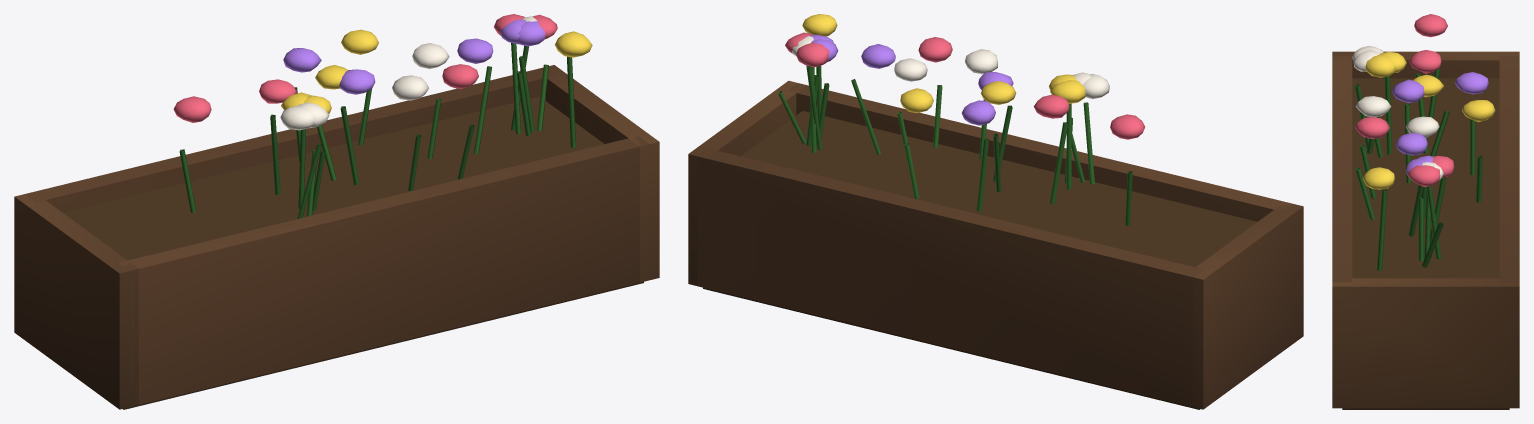
Rendered from flower_trough.glb.
3 views of the same model, side by side, from view 1: azimuth 30°, elevation 25°; view 2: azimuth 150°, elevation 25°; view 3: azimuth 270°, elevation 25° (orthographic). The views are drawn at different scales.
Parts seen in each view (by area): view 1: flower_trough; view 2: flower_trough; view 3: flower_trough.
Boxes of the visible parts, bbox=[...] form: flower_trough: bbox=[14, 14, 659, 409]; flower_trough: bbox=[688, 14, 1303, 409]; flower_trough: bbox=[1332, 14, 1519, 409].
Bounding box in the file's own units: 1.66 × 0.7224 × 0.56.
